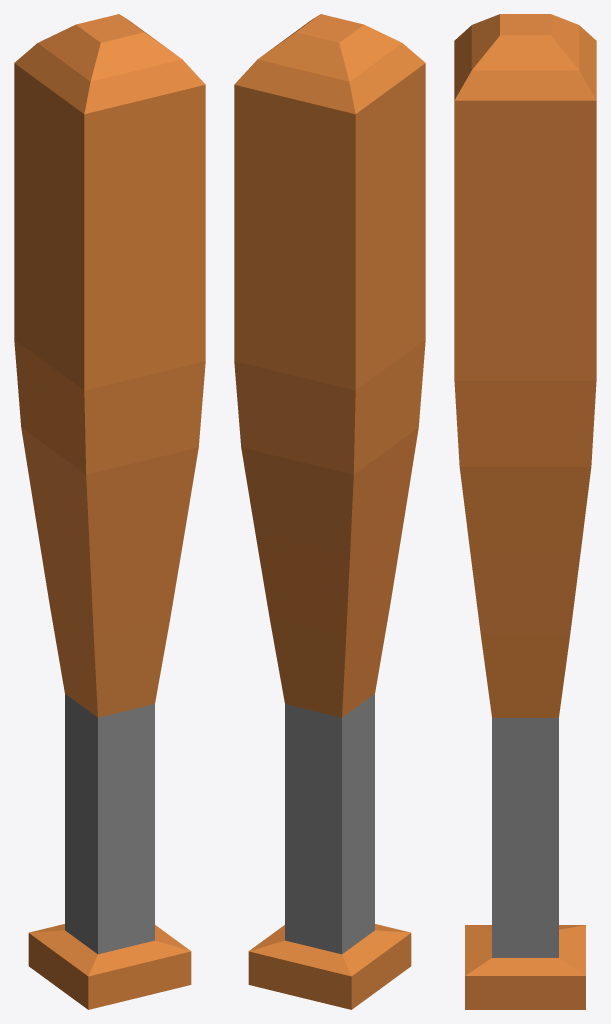
The model's file is low_poly_baseball_bat.glb.
The picture shows the model from 3 angles, left to right: view 1: azimuth 30°, elevation 25°; view 2: azimuth 150°, elevation 25°; view 3: azimuth 270°, elevation 25°; orthographic projection.
Visible parts, largest first — view 1: Cube; view 2: Cube; view 3: Cube.
Part boxes in pixels (left/top/right/bottom): Cube: left=14, top=14, right=205, bottom=1009; Cube: left=234, top=14, right=425, bottom=1009; Cube: left=454, top=14, right=596, bottom=1009.
Size of the model in its own units: 159 by 1193 by 159.
